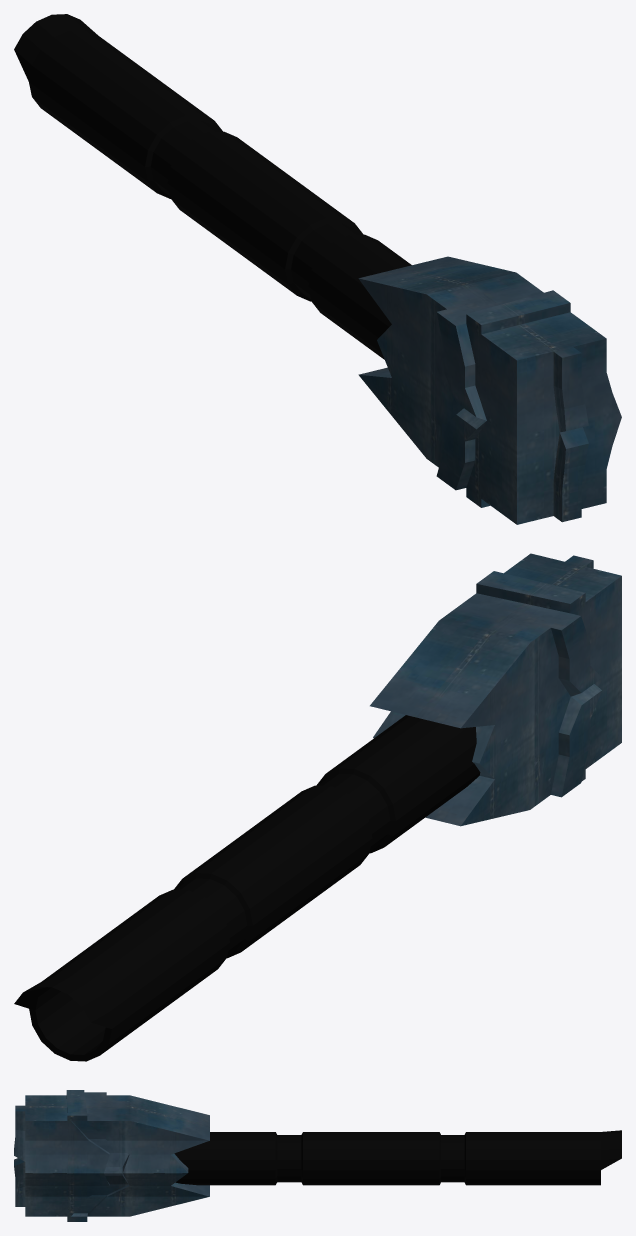
File: GrenadeLauncher.gltf
3 views of the same model, one above another, from view 1: azimuth 30°, elevation 25°; view 2: azimuth 150°, elevation 25°; view 3: azimuth 270°, elevation 25° (orthographic). The views are drawn at different scales.
Parts seen in each view (by area): view 1: 立方体.001, 円柱; view 2: 円柱, 立方体.001; view 3: 円柱, 立方体.001.
Boxes of the visible parts, x1,y1,x2,y2 form: 立方体.001: [358, 256, 621, 524]; 円柱: [14, 14, 411, 359]; 円柱: [14, 715, 480, 1061]; 立方体.001: [370, 553, 621, 826]; 円柱: [174, 1130, 621, 1185]; 立方体.001: [14, 1090, 209, 1221].
Bounding box in the file's own units: 1 × 1.5 × 7.76.
2 materials, 1 textured.
